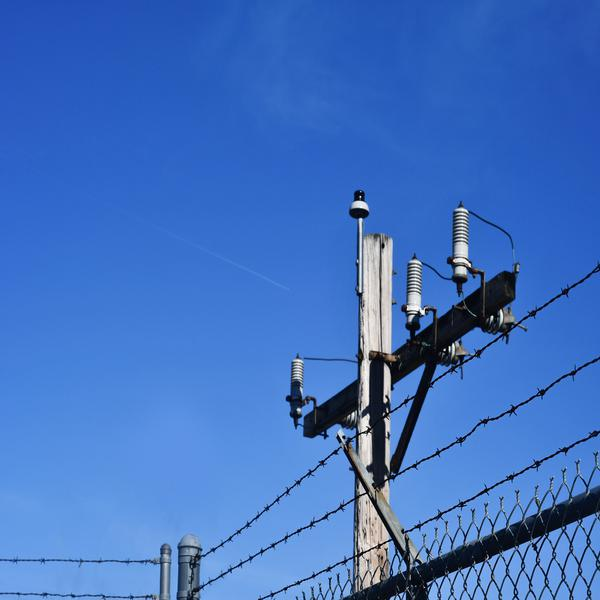utility_pole: (275, 180, 526, 502)
